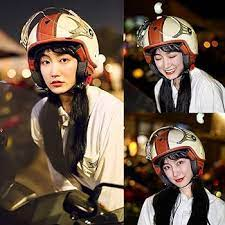helmets: (14, 6, 107, 90), (147, 127, 206, 182), (134, 14, 199, 62)
